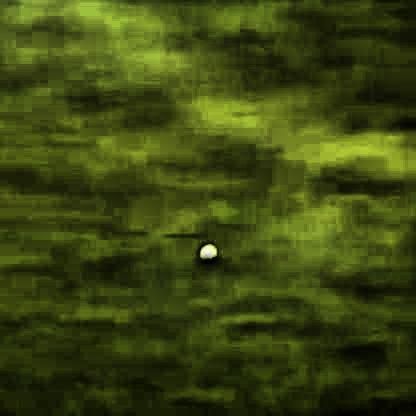golfball: (196, 241, 218, 260)
